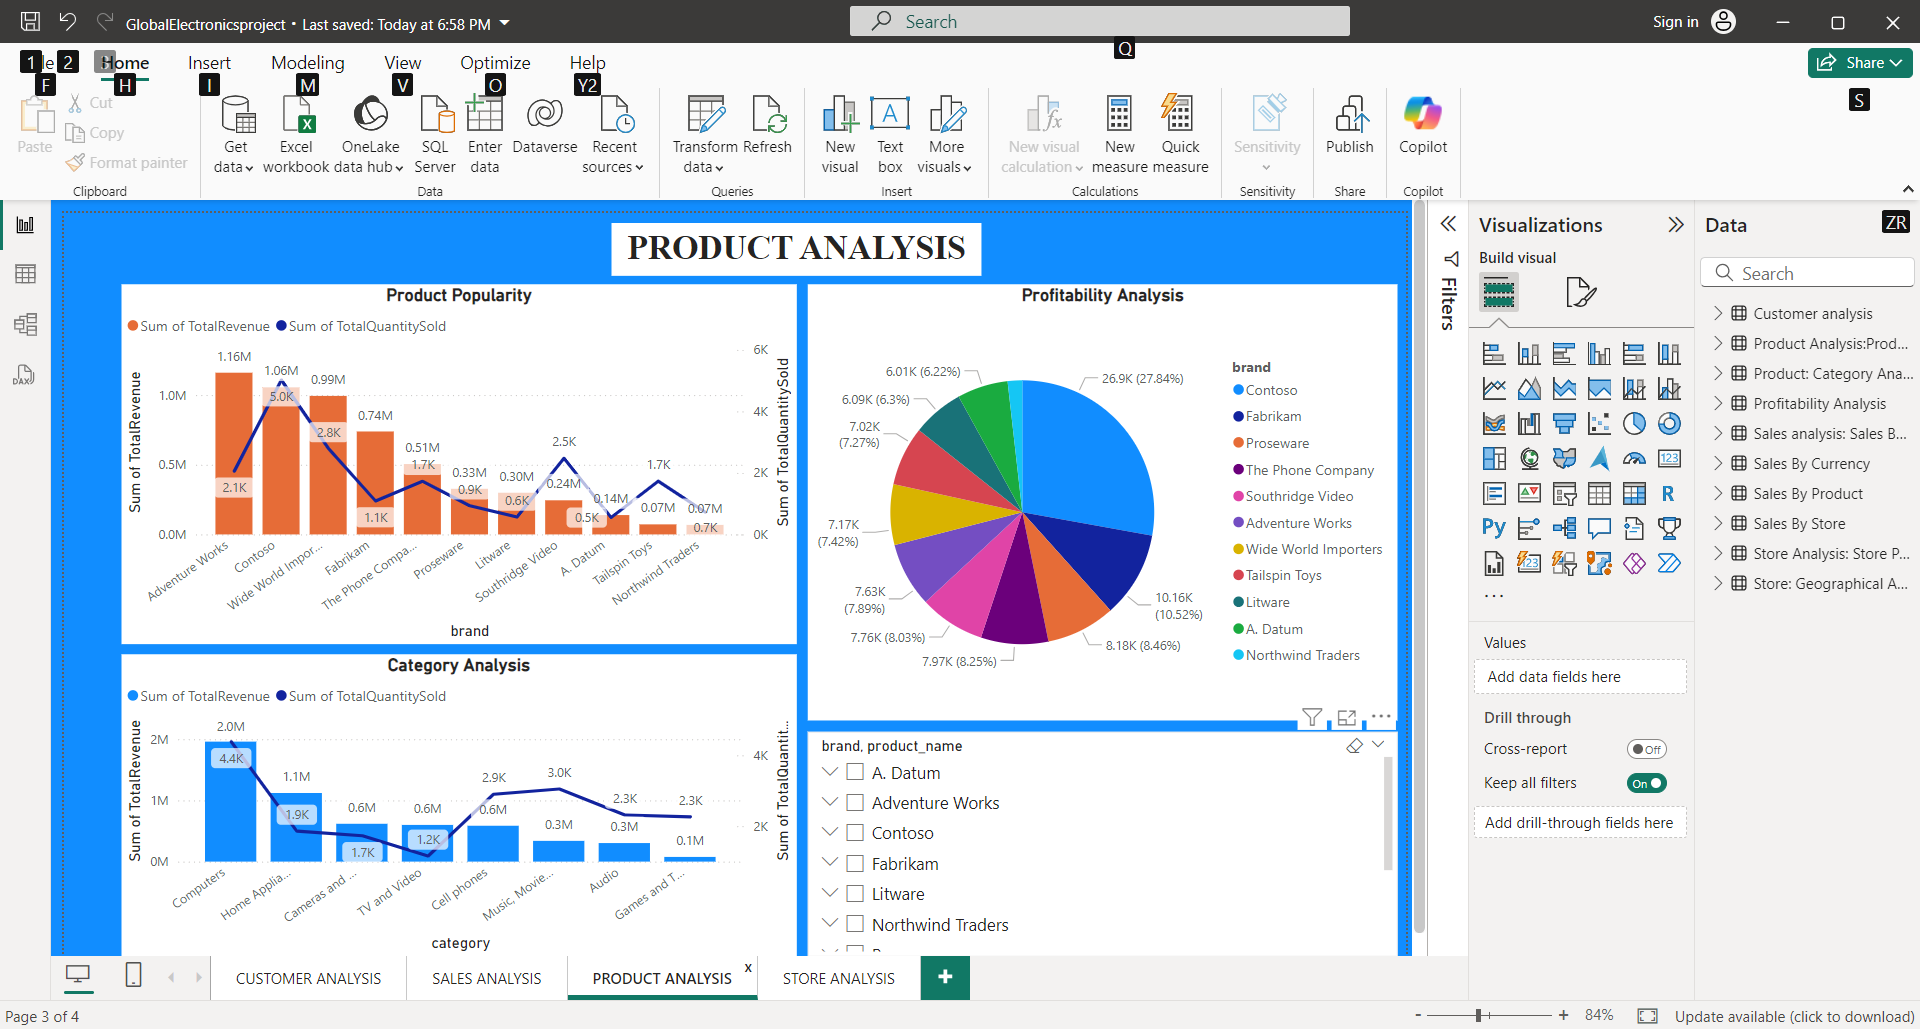

Layout of this report page (visuals, bound fields, positions):
{"tool":"powerbi","page":{"name":"PRODUCT ANALYSIS","canvas":[1280,720],"ordinal":2},"visuals":[{"type":"lineClusteredColumnComboChart","title":"Product Popularity","fields":{"Category":["Product Analysis:Product Popularity.brand"],"Y":["Sum(Product Analysis:Product Popularity.TotalRevenue)"],"Y2":["Sum(Product Analysis:Product Popularity.TotalQuantitySold)"]},"box":[54.8,67.9,643.7,343.3],"z":0},{"type":"pieChart","title":"Profitability Analysis","fields":{"Category":["Profitability Analysis.brand"],"Y":["Sum(Profitability Analysis.ProfitMarginPercentage)"]},"box":[709.3,67.9,562.6,416],"z":1000},{"type":"lineClusteredColumnComboChart","title":"Category Analysis","fields":{"Category":["Product: Category Analysis.category"],"Y":["Sum(Product: Category Analysis.TotalRevenue)"],"Y2":["Sum(Product: Category Analysis.TotalQuantitySold)"]},"box":[54.8,420.8,643.7,288.5],"z":2000},{"type":"slicer","fields":{"Values":["Product Analysis:Product Popularity.brand","Product Analysis:Product Popularity.product_name"]},"box":[709.3,494.7,562.6,214.6],"z":3000},{"type":"textbox","box":[522.1,9.5,352.8,50.1],"z":4000}]}

Visuals, with their boxes on the page's 1280x720 design canvas (x1, y1, x2, y2). These are canvas units, not pixel positions in the 1920x1029 screenshot, which may show the page scaled, cropped or inside an application window:
"Product Popularity" lineClusteredColumnComboChart: l=55, t=68, r=698, b=411
"Profitability Analysis" pieChart: l=709, t=68, r=1272, b=484
"Category Analysis" lineClusteredColumnComboChart: l=55, t=421, r=698, b=709
slicer - Product Analysis:Product Popularity.brand x Product Analysis:Product Popularity.product_name: l=709, t=495, r=1272, b=709
textbox: l=522, t=10, r=875, b=60
